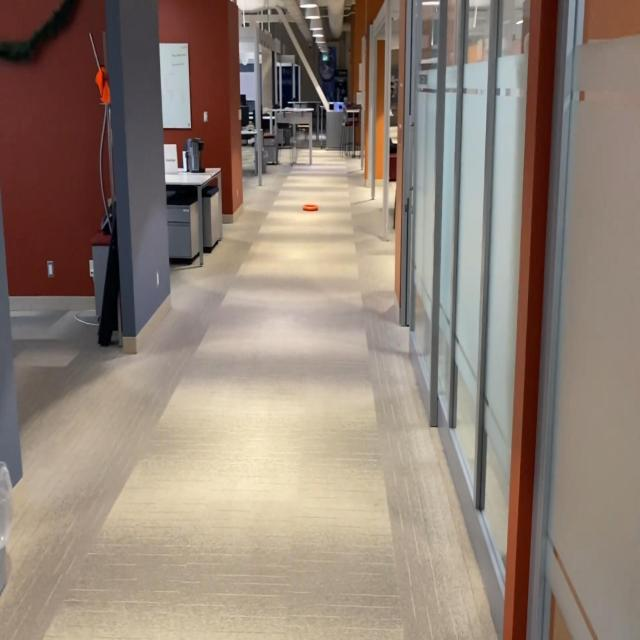note: (302, 198, 318, 216)
